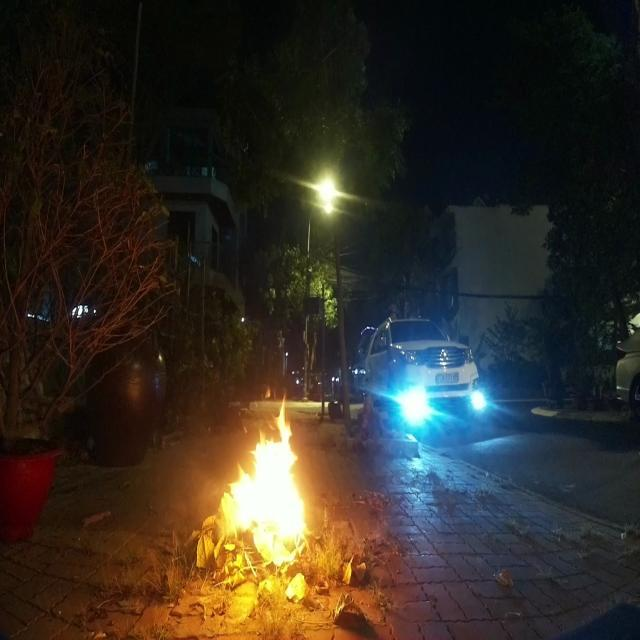Fire: (216, 380, 314, 584)
